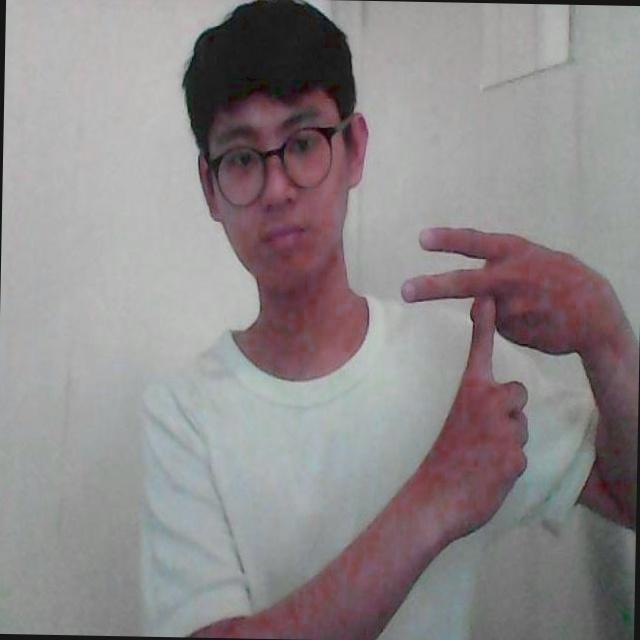F: (391, 194, 620, 532)
